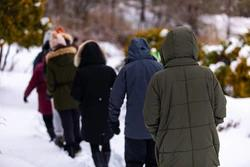coat: (141, 26, 228, 167), (109, 36, 166, 139), (72, 40, 121, 141), (44, 47, 82, 110), (23, 56, 58, 115)
trousers: (124, 135, 157, 167), (59, 106, 81, 150)
